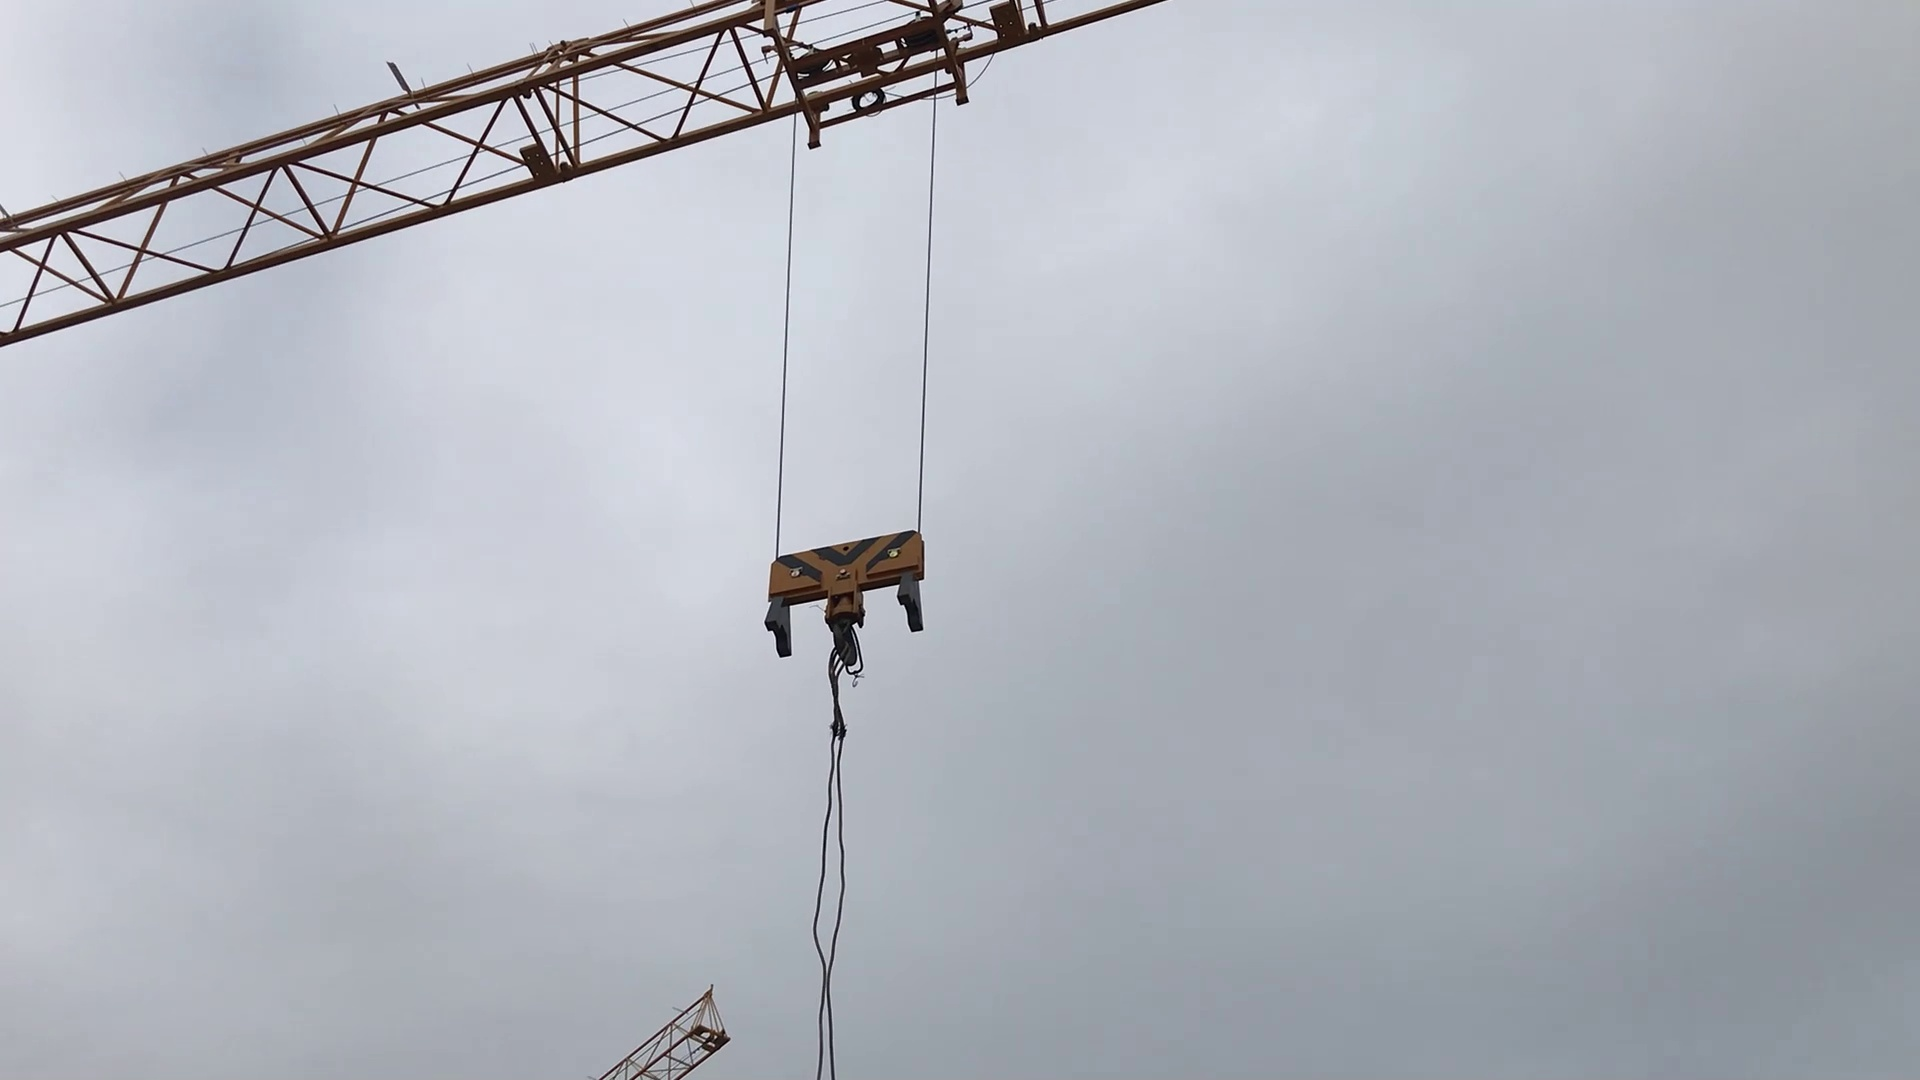hook: (746, 506, 947, 684)
